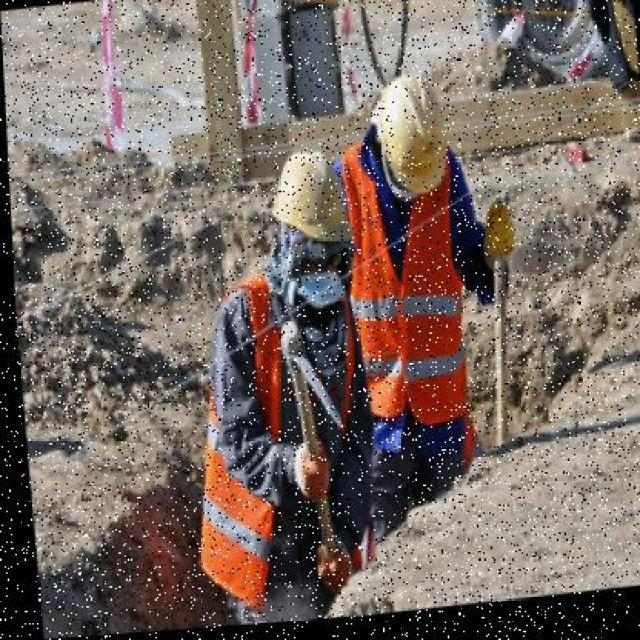helmet: (371, 82, 451, 210), (266, 145, 354, 261)
vest: (343, 178, 471, 446)
